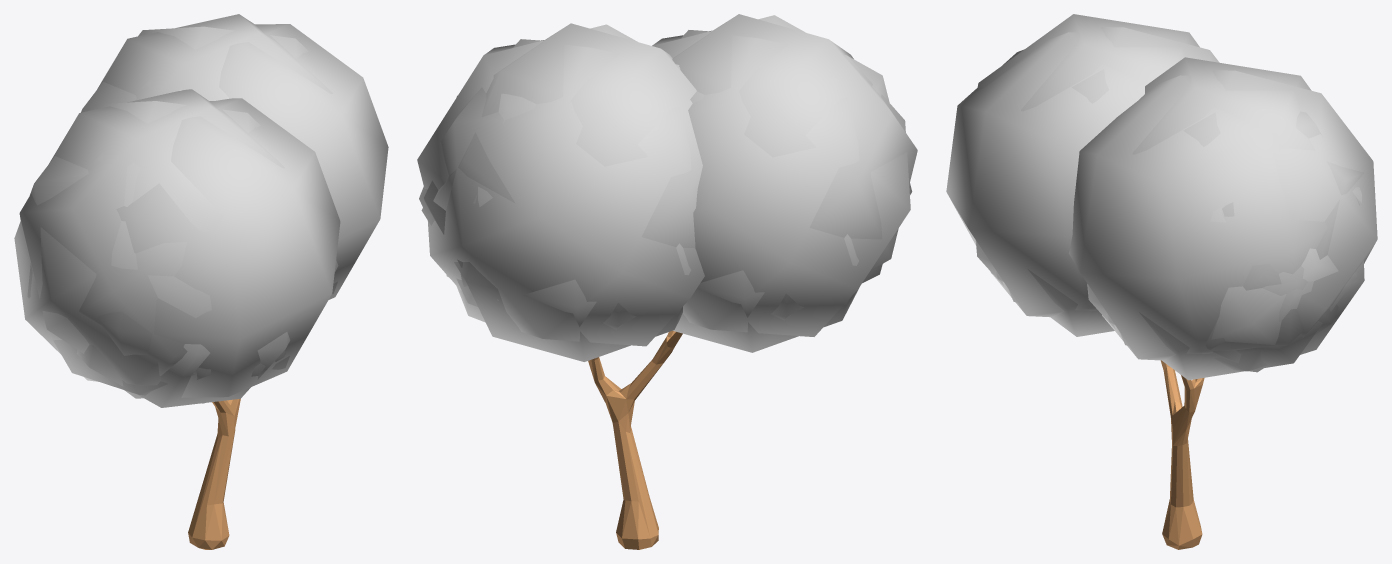
Rendered from tree3!.fbx.
3 renders of one model, left to right at view 1: azimuth 30°, elevation 25°; view 2: azimuth 150°, elevation 25°; view 3: azimuth 270°, elevation 25°, orthographic. The views are drawn at different scales.
Visible parts, largest first — view 1: p.002, Cube; view 2: p.002, Cube; view 3: p.002, Cube.
Part boxes in pixels (x1,y1,x2,y2): p.002: (14, 14, 388, 407); Cube: (188, 398, 240, 549); p.002: (417, 14, 917, 361); Cube: (588, 330, 682, 549); p.002: (946, 14, 1377, 380); Cube: (1160, 360, 1204, 549).
Size of the model in its own units: 1011 by 1236 by 994.
